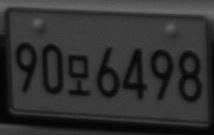0: (40, 42, 64, 95)
4: (121, 46, 148, 100)
6: (95, 45, 121, 98)
8: (176, 48, 202, 102)
9: (149, 48, 175, 101), (13, 40, 38, 93)
모: (66, 53, 91, 96)
